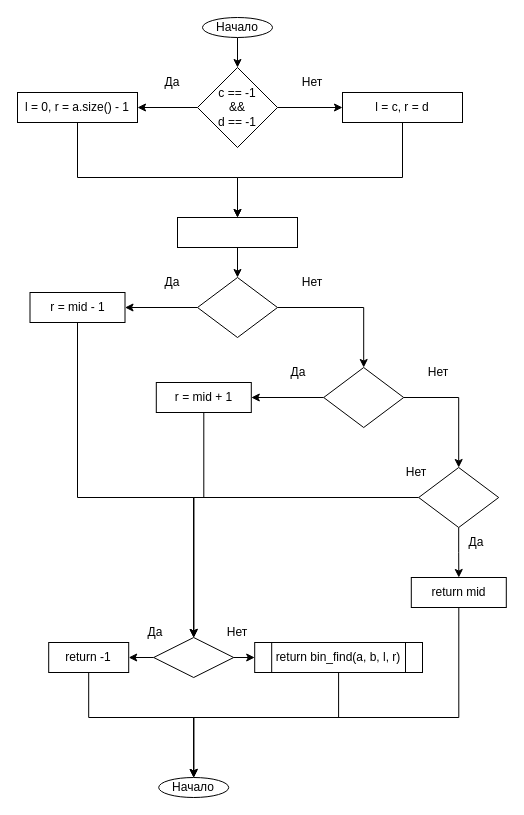
Image size: 524x815. Some labels were removed from this diagram. The centre of each missing label's shape, as x and y in pixels:
"a[mid] < b" belongs at (x=363, y=397).
"a[mid] == b" belongs at (x=458, y=497).
"a[mid] > b" belongs at (x=237, y=307).
"l > r" belongs at (x=193, y=657).
"mid = (r+l)/2" belongs at (x=237, y=232).
